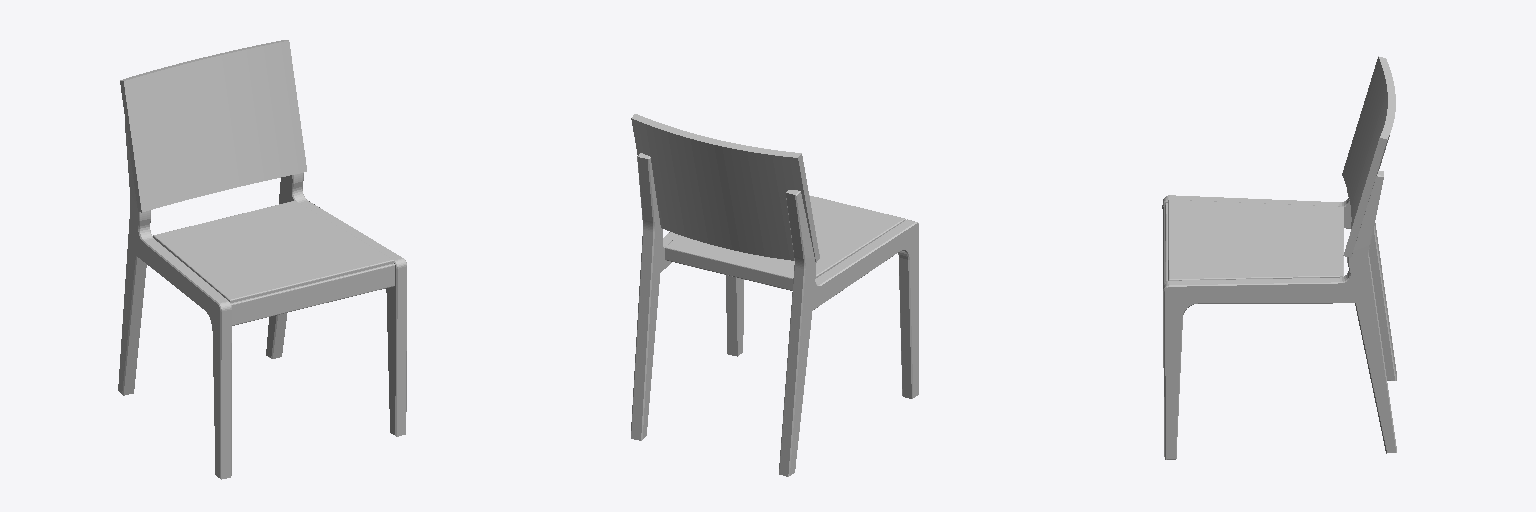
Rendered from chair01.obj.
3 renders of one model, left to right at view 1: azimuth 30°, elevation 25°; view 2: azimuth 150°, elevation 25°; view 3: azimuth 270°, elevation 25°, orthographic.
Parts seen in each view (by area): view 1: Arc08, ChamferBox20, Line20, Line19, ChamferBox19; view 2: Arc08, Line20, ChamferBox20, Line19; view 3: ChamferBox20, Line19, Arc08, Line20.
Boxes of the visible parts, x1=… form: Arc08: x1=120, y1=40, x2=306, y2=212; ChamferBox20: x1=153, y1=201, x2=393, y2=302; Line20: x1=118, y1=121, x2=231, y2=479; Line19: x1=266, y1=173, x2=406, y2=436; ChamferBox19: x1=231, y1=263, x2=394, y2=325; Arc08: x1=631, y1=114, x2=819, y2=262; Line20: x1=779, y1=190, x2=918, y2=476; ChamferBox20: x1=665, y1=195, x2=905, y2=290; Line19: x1=631, y1=153, x2=743, y2=440; ChamferBox20: x1=1168, y1=200, x2=1343, y2=280; Line19: x1=1163, y1=171, x2=1396, y2=459; Arc08: x1=1342, y1=56, x2=1395, y2=257; Line20: x1=1162, y1=191, x2=1396, y2=380.
Size of the model in its own units: 430 by 699 by 468.